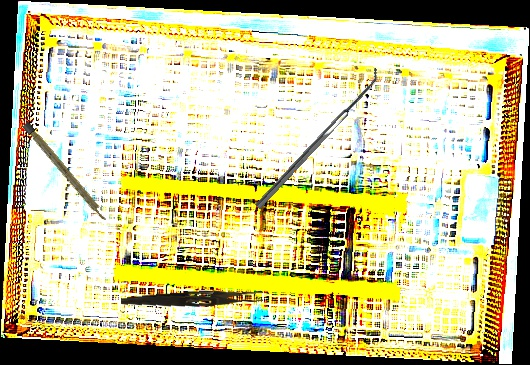Dressing Forceps: (120, 286, 264, 312)
Scalpel Handle: (22, 121, 109, 223)
Spatula Surgical: (249, 66, 385, 210)
